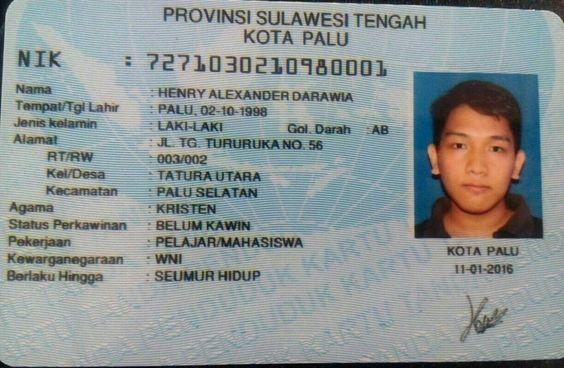ID-card: (0, 0, 561, 360)
